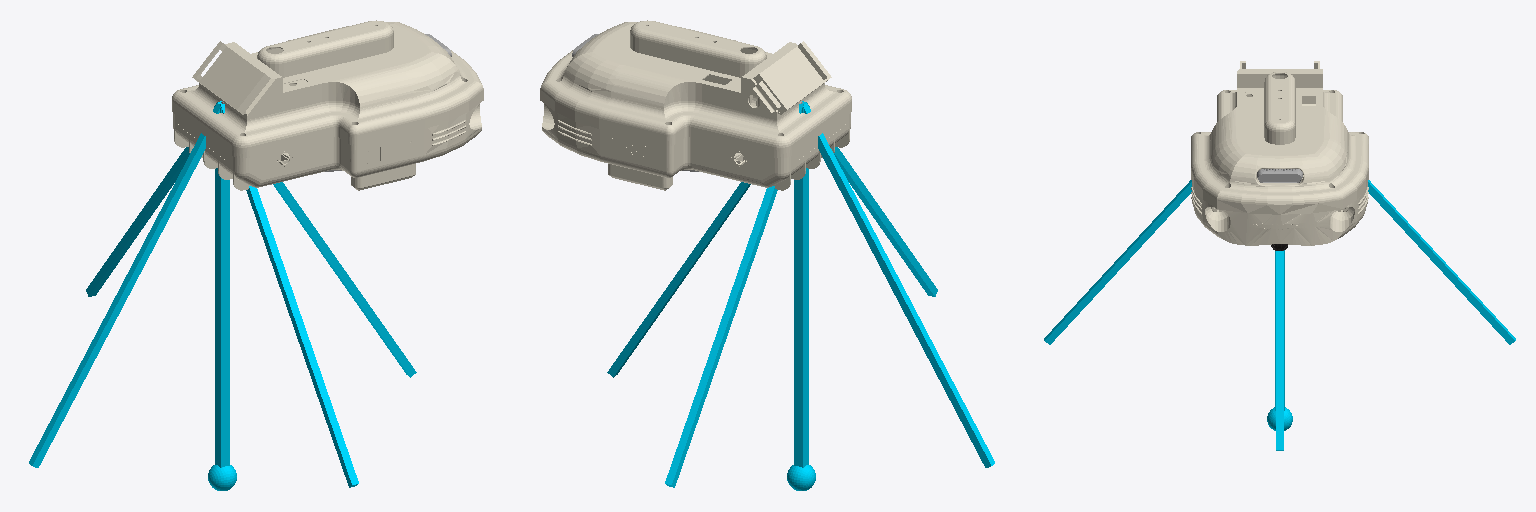
URDF robot description (mower_robot):
<?xml version="1.0" ?>
<!-- Generated using onshape-to-robot -->
<!-- Onshape https://cad.onshape.com/documents/4ced43830c4ff4955e236ea8/w/6fb1b9520eae9230baf9061c/e/4d5e051e59e583b208867f10 -->
<robot name="mower_robot">
  <material name="camera_direction_material">
    <color rgba="0 0.85 1 0.75"/>
  </material>
  <!-- Link base_link -->
  <link name="base_link">
    <inertial>
      <origin xyz="0 0 0" rpy="0 0 0"/>
      <mass value="0"/>
      <inertia ixx="0" ixy="0" ixz="0" iyy="0" iyz="0" izz="0"/>
    </inertial>
    <!-- Part base_link -->
    <visual>
      <origin xyz="-0.00376282 0.000572341 -0.0929528" rpy="0 -0 1.5708"/>
      <geometry>
        <mesh filename="package://mower_description/mower_robot/assets/base_link.stl"/>
      </geometry>
      <material name="base_link_material">
        <color rgba="0.901961 0.878431 0.811765 1"/>
      </material>
    </visual>
    <collision>
      <origin xyz="-0.00376282 0.000572341 -0.0929528" rpy="0 -0 1.5708"/>
      <geometry>
        <mesh filename="package://mower_description/mower_robot/assets/base_link.stl"/>
      </geometry>
    </collision>
  </link>
  <!-- Link left_wheel_link -->
  <link name="left_wheel_link">
    <inertial>
      <origin xyz="-3.1524e-07 9.95807e-06 -0.0428781" rpy="0 0 0"/>
      <mass value="0.368513"/>
      <inertia ixx="0.000961278" ixy="3.92e-09" ixz="6.596e-09" iyy="0.000961335" iyz="1.3009e-08" izz="0.00177481"/>
    </inertial>
    <!-- Part left_wheel_link -->
    <visual>
      <origin xyz="-0 0 -0.025531" rpy="-0 0 0"/>
      <geometry>
        <mesh filename="package://mower_description/mower_robot/assets/left_wheel_link.stl"/>
      </geometry>
      <material name="left_wheel_link_material">
        <color rgba="0.627451 0.627451 0.627451 1"/>
      </material>
    </visual>
    <collision>
      <origin xyz="-0 0 -0.025531" rpy="-0 0 0"/>
      <geometry>
        <mesh filename="package://mower_description/mower_robot/assets/left_wheel_link.stl"/>
      </geometry>
    </collision>
  </link>
  <!-- Joint from base_link to left_wheel_link -->
  <joint name="right_wheel_joint" type="continuous">
    <origin xyz="-0.153763 -0.117428 -0.00295275" rpy="-1.5708 1.53456 -0"/>
    <parent link="base_link"/>
    <child link="left_wheel_link"/>
    <axis xyz="0 0 1"/>
    <limit effort="10" velocity="6"/>
    <joint_properties friction="0.5"/>
  </joint>
  <!-- Link right_wheel_link -->
  <link name="right_wheel_link">
    <inertial>
      <origin xyz="-3.1524e-07 9.95807e-06 -0.0428781" rpy="0 0 0"/>
      <mass value="0.368513"/>
      <inertia ixx="0.000961278" ixy="3.92e-09" ixz="6.596e-09" iyy="0.000961335" iyz="1.3009e-08" izz="0.00177481"/>
    </inertial>
    <!-- Part right_wheel_link -->
    <visual>
      <origin xyz="0 0 -0.025531" rpy="0 0 0"/>
      <geometry>
        <mesh filename="package://mower_description/mower_robot/assets/right_wheel_link.stl"/>
      </geometry>
      <material name="right_wheel_link_material">
        <color rgba="0.627451 0.627451 0.627451 1"/>
      </material>
    </visual>
    <collision>
      <origin xyz="0 0 -0.025531" rpy="0 0 0"/>
      <geometry>
        <mesh filename="package://mower_description/mower_robot/assets/right_wheel_link.stl"/>
      </geometry>
    </collision>
  </link>
  <!-- Joint from base_link to right_wheel_link -->
  <joint name="left_wheel_joint" type="continuous">
    <origin xyz="-0.153763 0.118572 -0.00295275" rpy="1.5708 1.24431 -0"/>
    <parent link="base_link"/>
    <child link="right_wheel_link"/>
    <axis xyz="0 0 1"/>
    <limit effort="10" velocity="6"/>
    <joint_properties friction="0.5"/>
  </joint>
  <!-- Link caster_yaw_link -->
  <link name="caster_yaw_link">
    <inertial>
      <origin xyz="-0.00894349 -1.10704e-07 -0.0235114" rpy="0 0 0"/>
      <mass value="0.205996"/>
      <inertia ixx="0.000152202" ixy="-7.97e-10" ixz="-3.03099e-05" iyy="0.000161102" iyz="-1.164e-09" izz="0.000106547"/>
    </inertial>
    <!-- Part caster_yaw_link -->
    <visual>
      <origin xyz="0 0 -0" rpy="0 0 0"/>
      <geometry>
        <mesh filename="package://mower_description/mower_robot/assets/caster_yaw_link.stl"/>
      </geometry>
      <material name="caster_yaw_link_material">
        <color rgba="0.678431 0.678431 0.678431 1"/>
      </material>
    </visual>
    <collision>
      <origin xyz="0 0 -0" rpy="0 0 0"/>
      <geometry>
        <mesh filename="package://mower_description/mower_robot/assets/caster_yaw_link.stl"/>
      </geometry>
    </collision>
  </link>
  <!-- Link caster_wheel_link -->
  <link name="caster_wheel_link">
    <inertial>
      <origin xyz="2.3994e-08 -1.69119e-07 -0.0164994" rpy="0 0 0"/>
      <mass value="0.138953"/>
      <inertia ixx="5.52912e-05" ixy="-1.43e-10" ixz="-5.3e-11" iyy="5.52922e-05" iyz="3.05e-10" izz="8.94246e-05"/>
    </inertial>
    <!-- Part caster_wheel_link -->
    <visual>
      <origin xyz="0 -0 -0.0165" rpy="-1.5708 -1.5708 0"/>
      <geometry>
        <mesh filename="package://mower_description/mower_robot/assets/caster_wheel_link.stl"/>
      </geometry>
      <material name="caster_wheel_link_material">
        <color rgba="0.207843 0.192157 0.192157 1"/>
      </material>
    </visual>
    <collision>
      <origin xyz="0 -0 -0.0165" rpy="-1.5708 -1.5708 0"/>
      <geometry>
        <mesh filename="package://mower_description/mower_robot/assets/caster_wheel_link.stl"/>
      </geometry>
    </collision>
  </link>
  <!-- Joint from caster_yaw_link to caster_wheel_link -->
  <joint name="caster_wheel_joint" type="continuous">
    <origin xyz="-0.0255 0.0170526 -0.0695" rpy="1.5708 0.37367 -3.14159"/>
    <parent link="caster_yaw_link"/>
    <child link="caster_wheel_link"/>
    <axis xyz="0 0 1"/>
    <limit effort="10" velocity="6"/>
    <joint_properties friction="0.5"/>
  </joint>
  <!-- Joint from base_link to caster_yaw_link -->
  <joint name="caster_yaw_joint" type="revolute">
    <origin xyz="0.162737 0.000572341 0.0155472" rpy="-0 0 3.14159"/>
    <parent link="base_link"/>
    <child link="caster_yaw_link"/>
    <axis xyz="0 0 1"/>
    <limit effort="10" velocity="6" lower="-6.28319" upper="0"/>
    <joint_properties friction="0.5"/>
  </joint>
  <!-- Link depth_camera_link -->
  <link name="depth_camera_link">
    <inertial>
      <origin xyz="-0.0210924 2.34653e-05 -0.0116574" rpy="0 0 0"/>
      <mass value="0.292898"/>
      <inertia ixx="2.81585e-05" ixy="-1.4716e-08" ixz="-1.69117e-06" iyy="0.000189634" iyz="8.1277e-08" izz="0.000187962"/>
    </inertial>
    <!-- Part depth_camera_link -->
    <visual>
      <origin xyz="-0.0225 0 -0.02505" rpy="3.14159 -0 0"/>
      <geometry>
        <mesh filename="package://mower_description/mower_robot/assets/depth_camera_link.stl"/>
      </geometry>
      <material name="depth_camera_link_material">
        <color rgba="0.701961 0.701961 0.701961 1"/>
      </material>
    </visual>
    <collision>
      <origin xyz="-0.0225 0 -0.02505" rpy="3.14159 -0 0"/>
      <geometry>
        <mesh filename="package://mower_description/mower_robot/assets/depth_camera_link.stl"/>
      </geometry>
    </collision>
  </link>
  <!-- Joint from base_link to depth_camera_link -->
  <joint name="depth_camera_joint" type="fixed">
    <origin xyz="0.195683 0.0230723 0.0740472" rpy="-1.5708 -0 1.5708"/>
    <parent link="base_link"/>
    <child link="depth_camera_link"/>
    <axis xyz="0 0 1"/>
    <limit effort="10" velocity="6"/>
    <joint_properties friction="0.5"/>
  </joint>
  <!-- Link back_camera_link -->
  <link name="back_camera_link">
    <inertial>
      <origin xyz="0.000174127 0.000320936 -0.0147836" rpy="0 0 0"/>
      <mass value="0.0107094"/>
      <inertia ixx="9.78237e-07" ixy="-2.6898e-08" ixz="1.5856e-08" iyy="9.49758e-07" iyz="2.9225e-08" izz="1.19328e-06"/>
    </inertial>
    <!-- Part back_camera_link -->
    <visual>
      <origin xyz="0 0 -0.0202866" rpy="0 -0 0"/>
      <geometry>
        <mesh filename="package://mower_description/mower_robot/assets/back_camera_link.stl"/>
      </geometry>
      <material name="back_camera_link_material">
        <color rgba="0.713725 0.713725 0.713725 1"/>
      </material>
    </visual>
    <collision>
      <origin xyz="0 0 -0.0202866" rpy="0 -0 0"/>
      <geometry>
        <mesh filename="package://mower_description/mower_robot/assets/back_camera_link.stl"/>
      </geometry>
    </collision>
  </link>
  <!-- Joint from base_link to back_camera_link -->
  <joint name="back_camera_joint" type="fixed">
    <origin xyz="-0.206981 0.000572341 0.0620472" rpy="-1.5708 -0 1.5708"/>
    <parent link="base_link"/>
    <child link="back_camera_link"/>
    <axis xyz="0 0 1"/>
    <limit effort="10" velocity="6"/>
    <joint_properties friction="0.5"/>
  </joint>
  <link name="back_camera_rotated_frame">
    <visual name="back_camera_direction_center">
      <origin xyz="0.35 0 0" rpy="0 0 0"/>
      <geometry>
        <box size="0.7 0.018 0.018"/>
      </geometry>
      <material name="camera_direction_material"/>
    </visual>
    <visual name="back_camera_direction_left">
      <origin xyz="0.267 0.225 0" rpy="0 0 0.6981"/>
      <geometry>
        <box size="0.7 0.014 0.014"/>
      </geometry>
      <material name="camera_direction_material"/>
    </visual>
    <visual name="back_camera_direction_right">
      <origin xyz="0.267 -0.225 0" rpy="0 0 -0.6981"/>
      <geometry>
        <box size="0.7 0.014 0.014"/>
      </geometry>
      <material name="camera_direction_material"/>
    </visual>
    <visual name="back_camera_direction_top">
      <origin xyz="0.296 0 0.187" rpy="0 -0.561 0"/>
      <geometry>
        <box size="0.7 0.014 0.014"/>
      </geometry>
      <material name="camera_direction_material"/>
    </visual>
    <visual name="back_camera_direction_bottom">
      <origin xyz="0.296 0 -0.187" rpy="0 0.561 0"/>
      <geometry>
        <box size="0.7 0.014 0.014"/>
      </geometry>
      <material name="camera_direction_material"/>
    </visual>
    <visual name="back_camera_direction_tip">
      <origin xyz="0.7 0 0" rpy="0 0 0"/>
      <geometry>
        <sphere radius="0.025"/>
      </geometry>
      <material name="camera_direction_material"/>
    </visual>
  </link>
  <joint name="back_camera_rotated_joint" type="fixed">
    <origin xyz="0 0 0" rpy="0 0 1.5708"/>
    <parent link="back_camera_link"/>
    <child link="back_camera_rotated_frame"/>
  </joint>
  <!-- Link imu_link -->
  <link name="imu_link">
    <inertial>
      <origin xyz="3.703e-09 -0.000251465 0.00531321" rpy="3.14159 0 1.5708"/>
      <mass value="0.205582"/>
      <inertia ixx="3.85914e-05" ixy="1.7e-11" ixz="-3.105e-09" iyy="4.59431e-05" iyz="-1e-12" izz="7.98412e-05"/>
    </inertial>
    <!-- Part imu_link -->
    <visual>
      <origin xyz="0 -0.000256254 0.005" rpy="0 0 1.5708"/>
      <geometry>
        <mesh filename="package://mower_description/mower_robot/assets/imu_link.stl"/>
      </geometry>
      <material name="imu_link_material">
        <color rgba="0 0 0 1"/>
      </material>
    </visual>
    <collision>
      <origin xyz="0 -0.000256254 0.005" rpy="0 0 1.5708"/>
      <geometry>
        <mesh filename="package://mower_description/mower_robot/assets/imu_link.stl"/>
      </geometry>
    </collision>
  </link>
  <!-- Joint from base_link to imu_link -->
  <joint name="imu_joint" type="fixed">
    <!-- Not the CAD mate (rpy="3.14159 -0 1.5708", upside down): the IMU's
         data frame as measured on the robot 2026-11-16, see imu_joint in
         robot.urdf.xacro. The part's origins above keep it where the CAD
         puts it. -->
    <origin xyz="-0.197763 0.00193904 -0.0129528" rpy="0 0 0"/>
    <parent link="base_link"/>
    <child link="imu_link"/>
    <axis xyz="0 0 1"/>
    <limit effort="10" velocity="6"/>
    <joint_properties friction="0.5"/>
  </joint>
  <!-- Link connector -->
  <link name="connector">
    <inertial>
      <origin xyz="-8.04e-10 -0.000464193 -0.0128143" rpy="0 0 0"/>
      <mass value="0.0120859"/>
      <inertia ixx="1.19168e-06" ixy="0" ixz="0" iyy="1.267e-06" iyz="2.3234e-08" izz="2.01476e-06"/>
    </inertial>
    <!-- Part connector -->
    <visual>
      <origin xyz="0 0 0" rpy="3.14159 -0 0"/>
      <geometry>
        <mesh filename="package://mower_description/mower_robot/assets/connector.stl"/>
      </geometry>
      <material name="connector_material">
        <color rgba="0.6 0.6 0.6 1"/>
      </material>
    </visual>
    <collision>
      <origin xyz="0 0 0" rpy="3.14159 -0 0"/>
      <geometry>
        <mesh filename="package://mower_description/mower_robot/assets/connector.stl"/>
      </geometry>
    </collision>
  </link>
  <!-- Link blade_hub -->
  <link name="blade_hub">
    <inertial>
      <origin xyz="-0 -0 -0.00147225" rpy="0 0 0"/>
      <mass value="0.0672483"/>
      <inertia ixx="9.33182e-05" ixy="-0" ixz="0" iyy="9.33182e-05" iyz="0" izz="0.000186538"/>
    </inertial>
    <!-- Part blade_hub -->
    <visual>
      <origin xyz="0 0 -0.003" rpy="3.14159 -0 -0"/>
      <geometry>
        <mesh filename="package://mower_description/mower_robot/assets/blade_hub.stl"/>
      </geometry>
      <material name="blade_hub_material">
        <color rgba="0.6 0.6 0.6 1"/>
      </material>
    </visual>
    <collision>
      <origin xyz="0 0 -0.003" rpy="3.14159 -0 -0"/>
      <geometry>
        <mesh filename="package://mower_description/mower_robot/assets/blade_hub.stl"/>
      </geometry>
    </collision>
  </link>
  <!-- Joint from connector to blade_hub -->
  <joint name="pad_joint" type="fixed">
    <origin xyz="0 0 -0.018" rpy="0 -0 -0"/>
    <parent link="connector"/>
    <child link="blade_hub"/>
    <axis xyz="0 0 1"/>
    <limit effort="10" velocity="6"/>
    <joint_properties friction="0.5"/>
  </joint>
  <!-- Joint from base_link to connector -->
  <joint name="mower_joint" type="revolute">
    <origin xyz="-0.00376282 0.000572341 -0.0549528" rpy="0 -0 -1.5708"/>
    <parent link="base_link"/>
    <child link="connector"/>
    <axis xyz="0 0 1"/>
    <limit effort="10" velocity="6" lower="-3.14159" upper="3.14159"/>
    <joint_properties friction="0.5"/>
  </joint>
</robot>

--- Facts derived from the render (not from the file) ---
Views: 3 orthographic renders of the robot side by side, from view 1: azimuth 30°, elevation 25°; view 2: azimuth 150°, elevation 25°; view 3: azimuth 270°, elevation 25°.
Robot: mower_robot — 11 links, 10 joints (2 revolute, 3 continuous, 5 fixed); root link base_link; default pose: every joint at zero.
Visible links, largest first — view 1: base_link, back_camera_rotated_frame; view 2: base_link, back_camera_rotated_frame; view 3: base_link, back_camera_rotated_frame, depth_camera_link.
Boxes of the visible links, left/top/right/bottom form: base_link: left=172, top=20, right=483, bottom=190; back_camera_rotated_frame: left=29, top=101, right=416, bottom=490; base_link: left=540, top=20, right=851, bottom=190; back_camera_rotated_frame: left=607, top=101, right=994, bottom=490; base_link: left=1191, top=61, right=1368, bottom=245; back_camera_rotated_frame: left=1044, top=180, right=1515, bottom=450; depth_camera_link: left=1257, top=169, right=1302, bottom=182.
Bounding box of the posed robot: 0.8498 × 0.9107 × 0.8063 m (x, y, z).
8 mesh visuals loaded from 10 distinct referenced files (8 binary STL); not drawn: 2 (reference not matched to a file when rendering).
